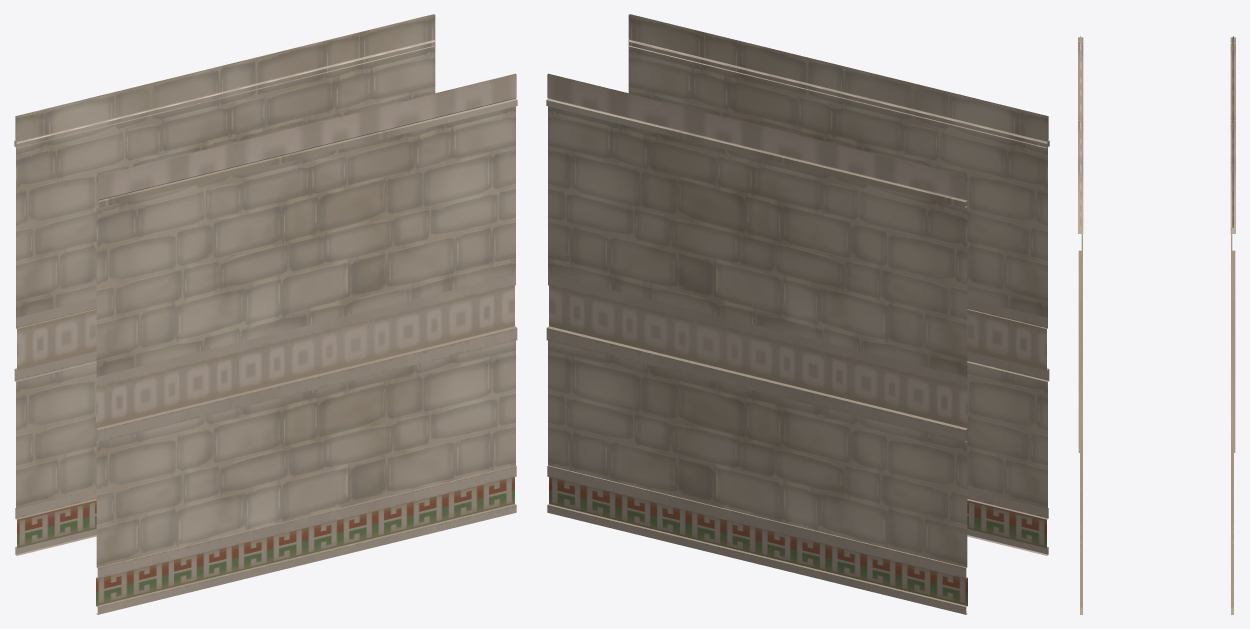
The model's file is SM_Env_Wall_C_Simple.fbx.
3 views of the same model, side by side, from view 1: azimuth 30°, elevation 25°; view 2: azimuth 150°, elevation 25°; view 3: azimuth 270°, elevation 25° (orthographic). The views are drawn at different scales.
Parts seen in each view (by area): view 1: Wall_C_Simple; view 2: Wall_C_Simple; view 3: Wall_C_Simple.
Part boxes in pixels (x1,y1,x2,y2): Wall_C_Simple: [14, 14, 517, 614]; Wall_C_Simple: [546, 14, 1049, 614]; Wall_C_Simple: [1078, 36, 1235, 614].
Size of the model in its own units: 300 by 300 by 105.
1 material, 1 textured.
